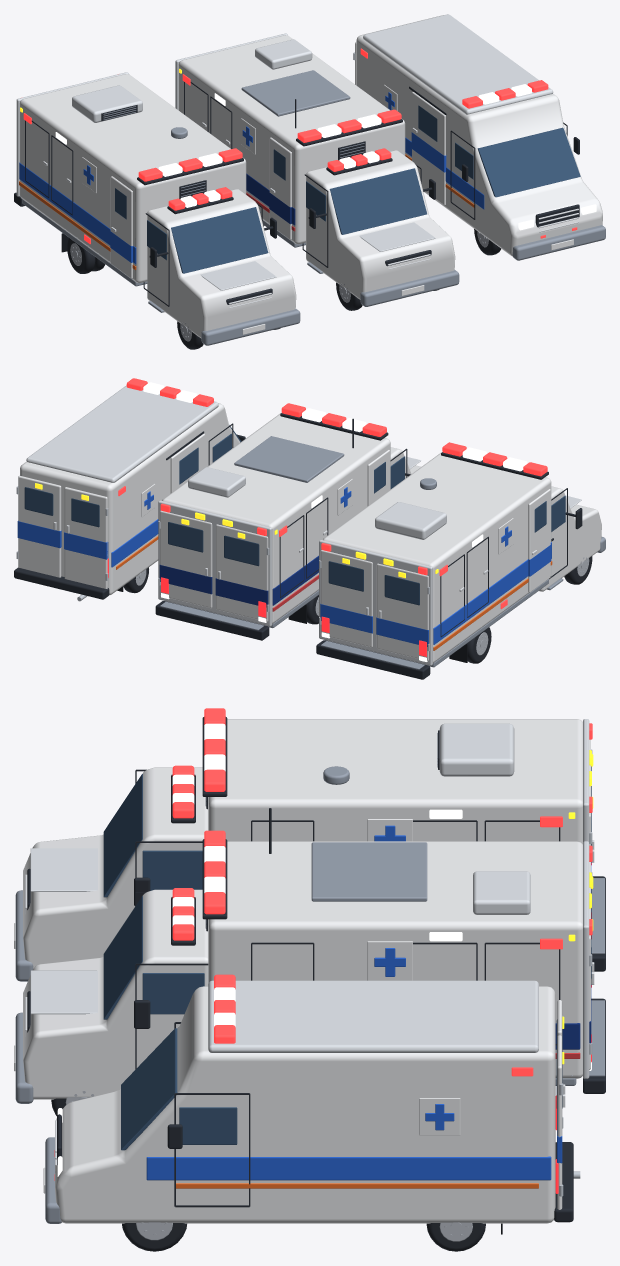
File: vehicles.glb
The picture shows the model from 3 angles, top to bottom: view 1: azimuth 30°, elevation 25°; view 2: azimuth 150°, elevation 25°; view 3: azimuth 270°, elevation 25°; orthographic projection. The views are drawn at different scales.
Visible parts, largest first — view 1: amb_type3_a_body, amb_type3_b_body, amb_van_body, amb_van_door_side, amb_type3_a_door_side, amb_type3_b_door_side, amb_type3_b_lightbar, amb_type3_a_lightbar, amb_type3_a_cab_lightbar, amb_type3_b_cab_lightbar, amb_van_lightbar, amb_type3_a_wheel_rr; view 2: amb_type3_a_body, amb_type3_b_body, amb_van_body, amb_type3_b_door_rear_l, amb_type3_b_door_rear_r, amb_type3_a_door_rear_l, amb_type3_a_door_rear_r, amb_van_door_rear_l, amb_van_door_rear_r, amb_type3_a_door_side, amb_type3_a_lightbar, amb_type3_b_lightbar (+5 smaller); view 3: amb_van_body, amb_type3_b_body, amb_type3_a_body, amb_type3_b_lightbar, amb_type3_a_lightbar, amb_van_lightbar, amb_van_wheel_fl, amb_type3_a_cab_lightbar, amb_type3_b_cab_lightbar, amb_van_wheel_rl, amb_van_door_rear_l.
Part boxes in pixels (x1=…): amb_type3_a_body: x1=14, y1=72, x2=300, y2=345; amb_type3_b_body: x1=175, y1=33, x2=459, y2=306; amb_van_body: x1=356, y1=14, x2=605, y2=260; amb_van_door_side: x1=411, y1=92, x2=446, y2=205; amb_type3_a_door_side: x1=110, y1=176, x2=132, y2=278; amb_type3_b_door_side: x1=269, y1=137, x2=291, y2=239; amb_type3_b_lightbar: x1=296, y1=109, x2=402, y2=146; amb_type3_a_lightbar: x1=137, y1=148, x2=243, y2=185; amb_type3_a_cab_lightbar: x1=167, y1=187, x2=233, y2=214; amb_type3_b_cab_lightbar: x1=326, y1=148, x2=392, y2=175; amb_van_lightbar: x1=462, y1=80, x2=548, y2=108; amb_type3_a_wheel_rr: x1=67, y1=238, x2=105, y2=273; amb_type3_a_body: x1=316, y1=453, x2=605, y2=679; amb_type3_b_body: x1=155, y1=413, x2=421, y2=640; amb_van_body: x1=14, y1=385, x2=245, y2=601; amb_type3_b_door_rear_l: x1=158, y1=510, x2=212, y2=608; amb_type3_b_door_rear_r: x1=215, y1=524, x2=269, y2=621; amb_type3_a_door_rear_l: x1=319, y1=550, x2=372, y2=647; amb_type3_a_door_rear_r: x1=376, y1=563, x2=429, y2=660; amb_van_door_rear_l: x1=16, y1=475, x2=61, y2=577; amb_van_door_rear_r: x1=64, y1=487, x2=108, y2=588; amb_type3_a_door_side: x1=528, y1=489, x2=551, y2=592; amb_type3_a_lightbar: x1=441, y1=442, x2=548, y2=479; amb_type3_b_lightbar: x1=280, y1=403, x2=388, y2=440; amb_van_body: x1=43, y1=980, x2=580, y2=1234; amb_type3_b_body: x1=14, y1=808, x2=605, y2=1103; amb_type3_a_body: x1=14, y1=719, x2=605, y2=981; amb_type3_b_lightbar: x1=202, y1=830, x2=227, y2=919; amb_type3_a_lightbar: x1=202, y1=708, x2=227, y2=796; amb_van_lightbar: x1=214, y1=974, x2=235, y2=1043; amb_van_wheel_fl: x1=122, y1=1222, x2=186, y2=1251; amb_type3_a_cab_lightbar: x1=171, y1=765, x2=195, y2=823; amb_type3_b_cab_lightbar: x1=171, y1=888, x2=195, y2=945; amb_van_wheel_rl: x1=426, y1=1222, x2=485, y2=1251; amb_van_door_rear_l: x1=556, y1=1035, x2=565, y2=1209.
Size of the model in its own units: 9.61 by 3.48 by 7.16.
